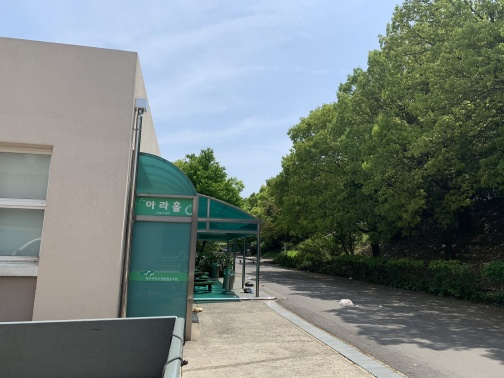Ara Hall: (5, 83, 267, 323), (133, 162, 261, 337)
